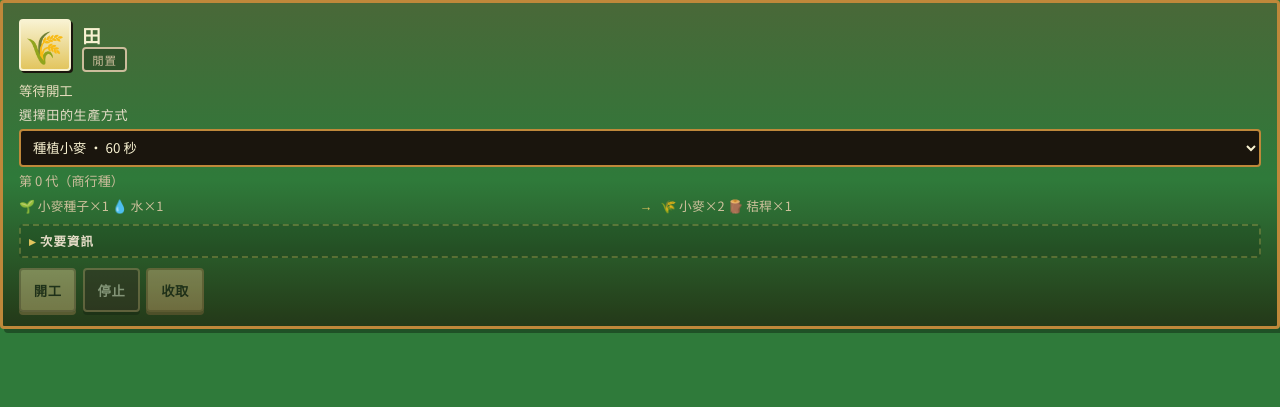
Test: BuildingCard FE-RICH-1 density › folds workforce and ops preview into secondary details
This screenshot has width=1280, height=407.
Click the heading "次要資訊": (67, 241) left=40, top=232, right=94, bottom=250
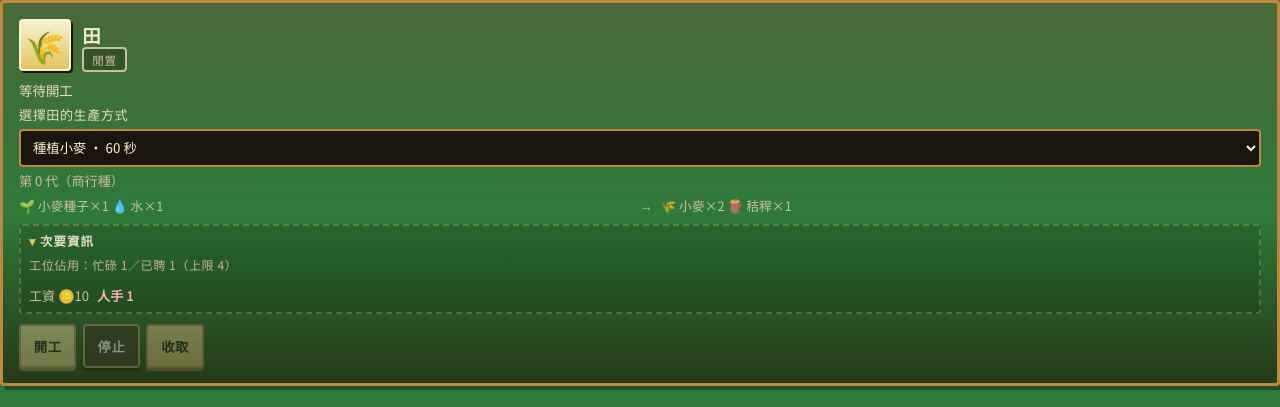
expect the text with test id "building-workforce-line" shows "工位佔用：忙碌 1／已聘 1": met, box left=29, top=256, right=237, bottom=274
expect the element with test id "ops-cost-preview" shows "人手 1": met, box left=29, top=286, right=134, bottom=305
